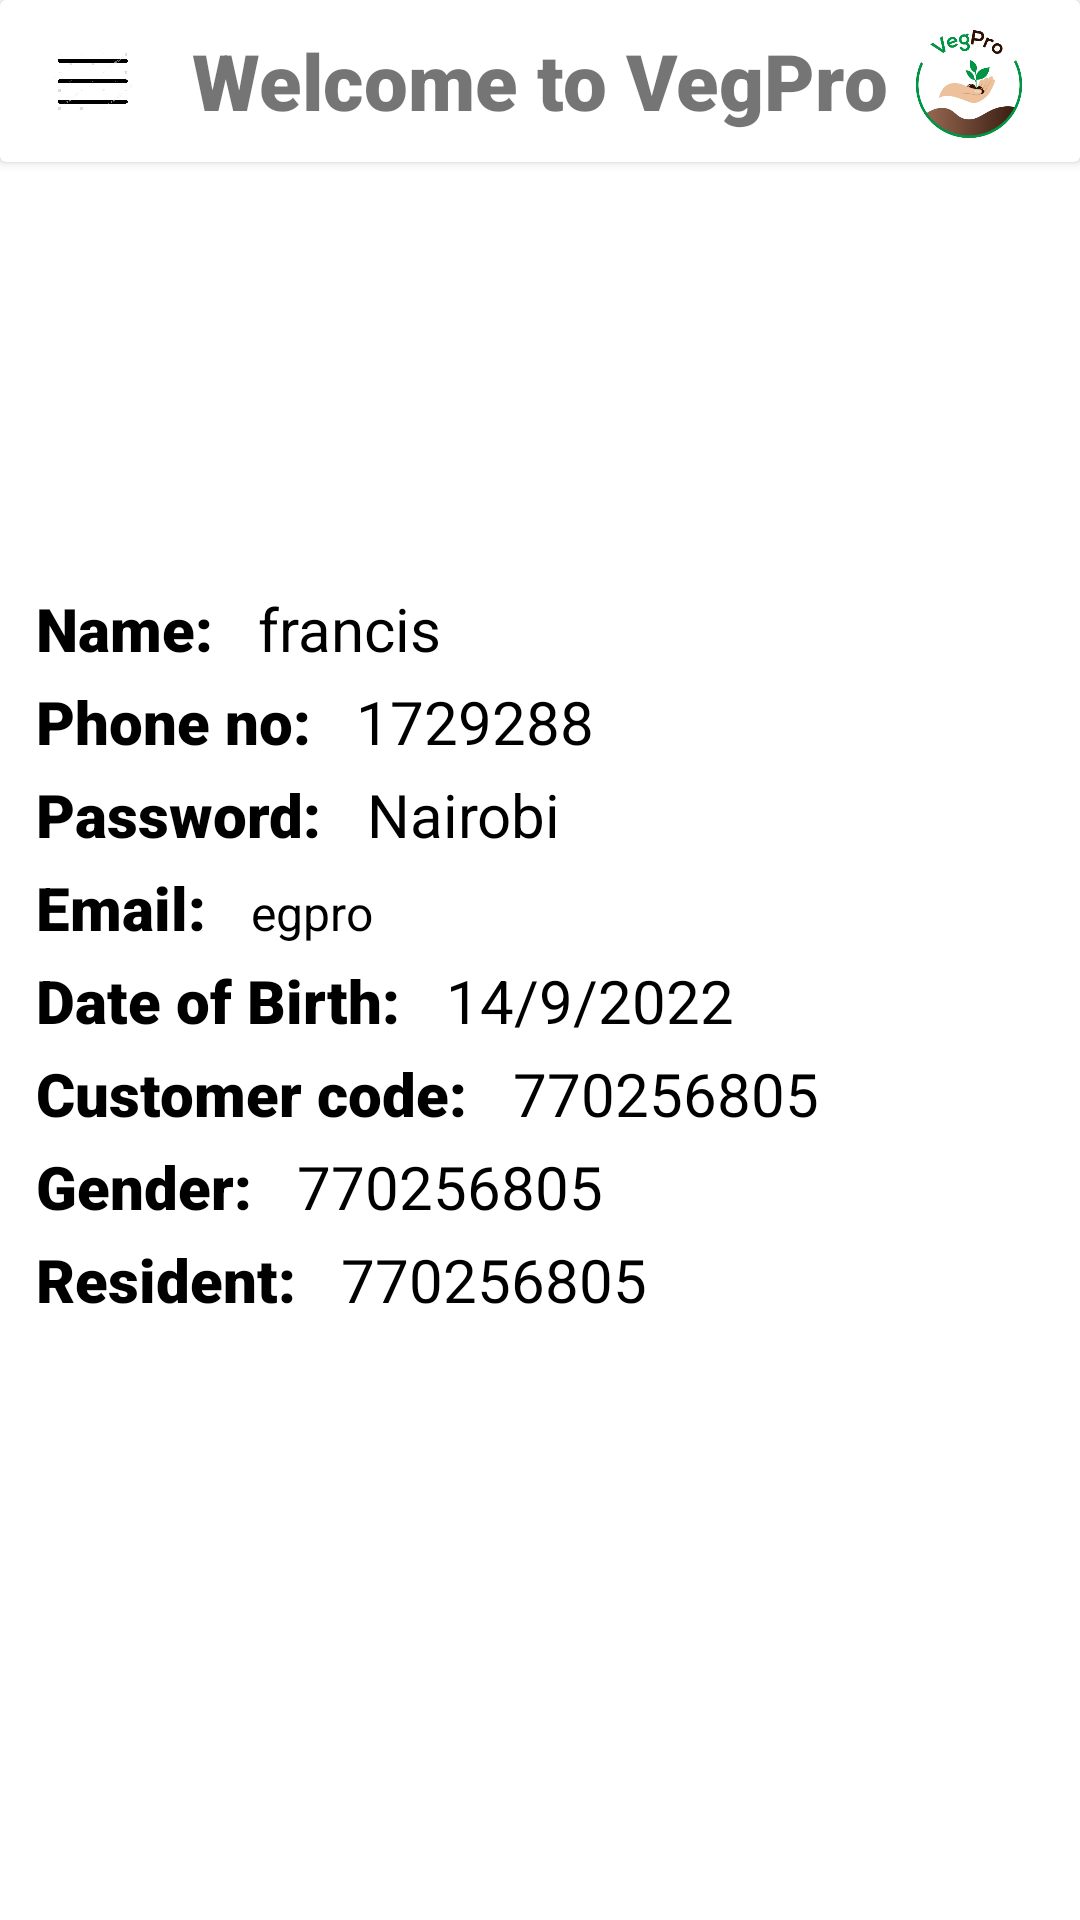

Named icons in this screenshot (1080x1920) and their centers, point (x, y):
drawer: point (93, 81)
